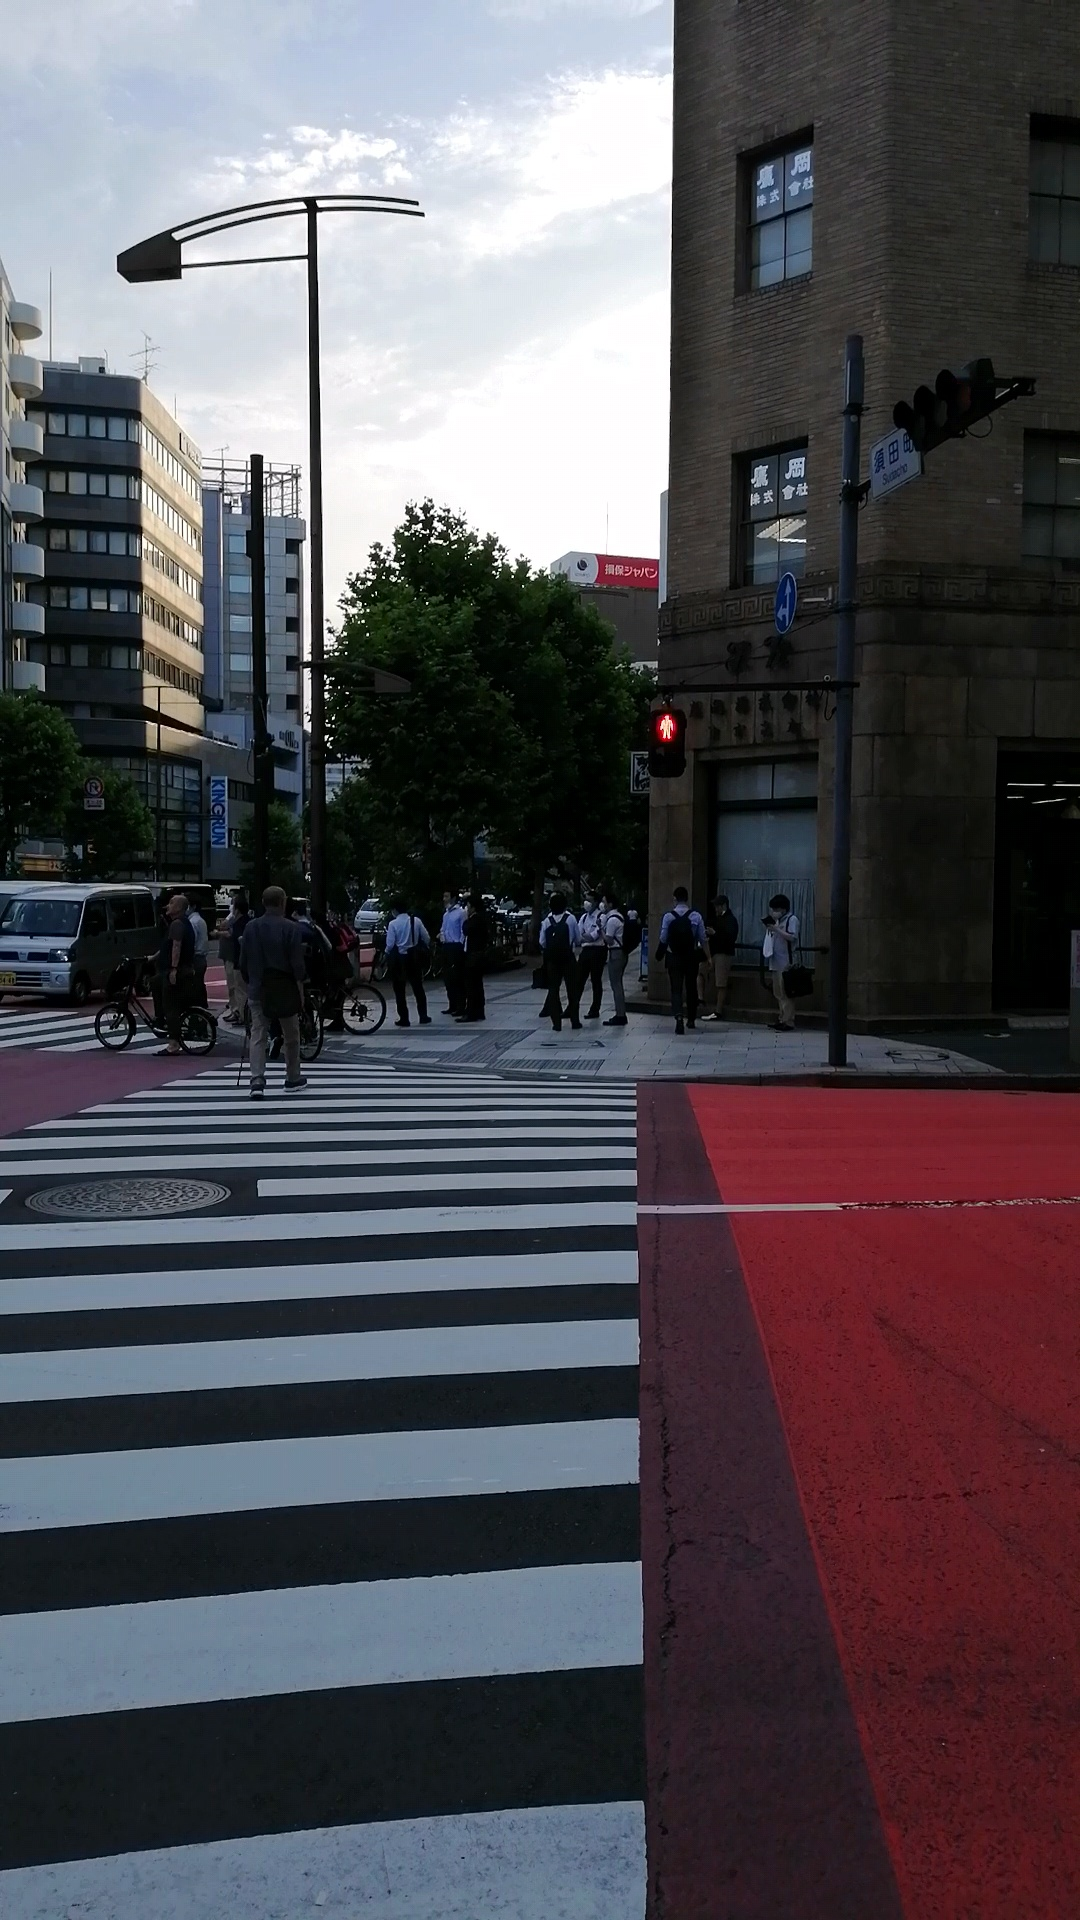red: (649, 705, 686, 775)
